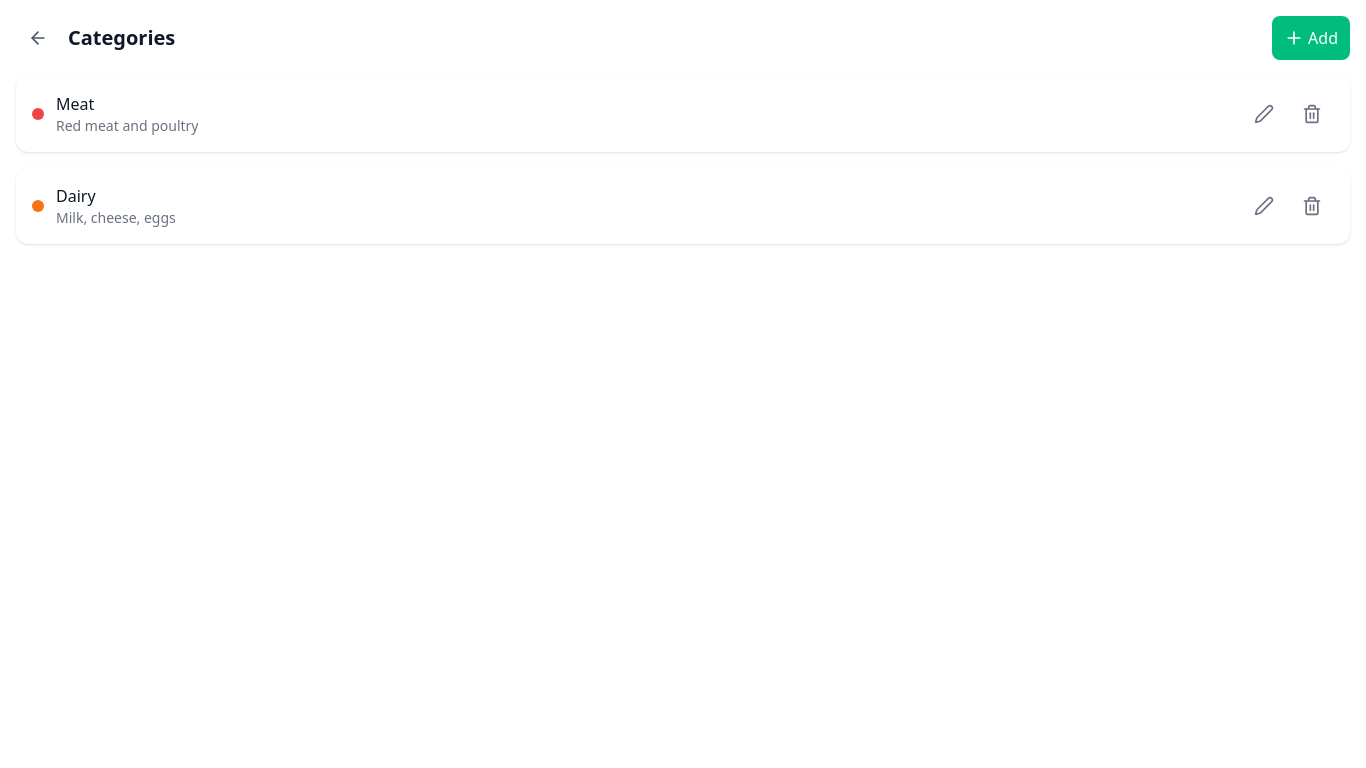
Test case: CategoriesPage › pins in-use category copy: Can't delete Meat — 1 item and 2 templates still use this category.
What coordinates should you click on to do the following:
click the button named "delete meat"
I would click on:
 (1312, 114)
Its box is [1290,92,1334,136].
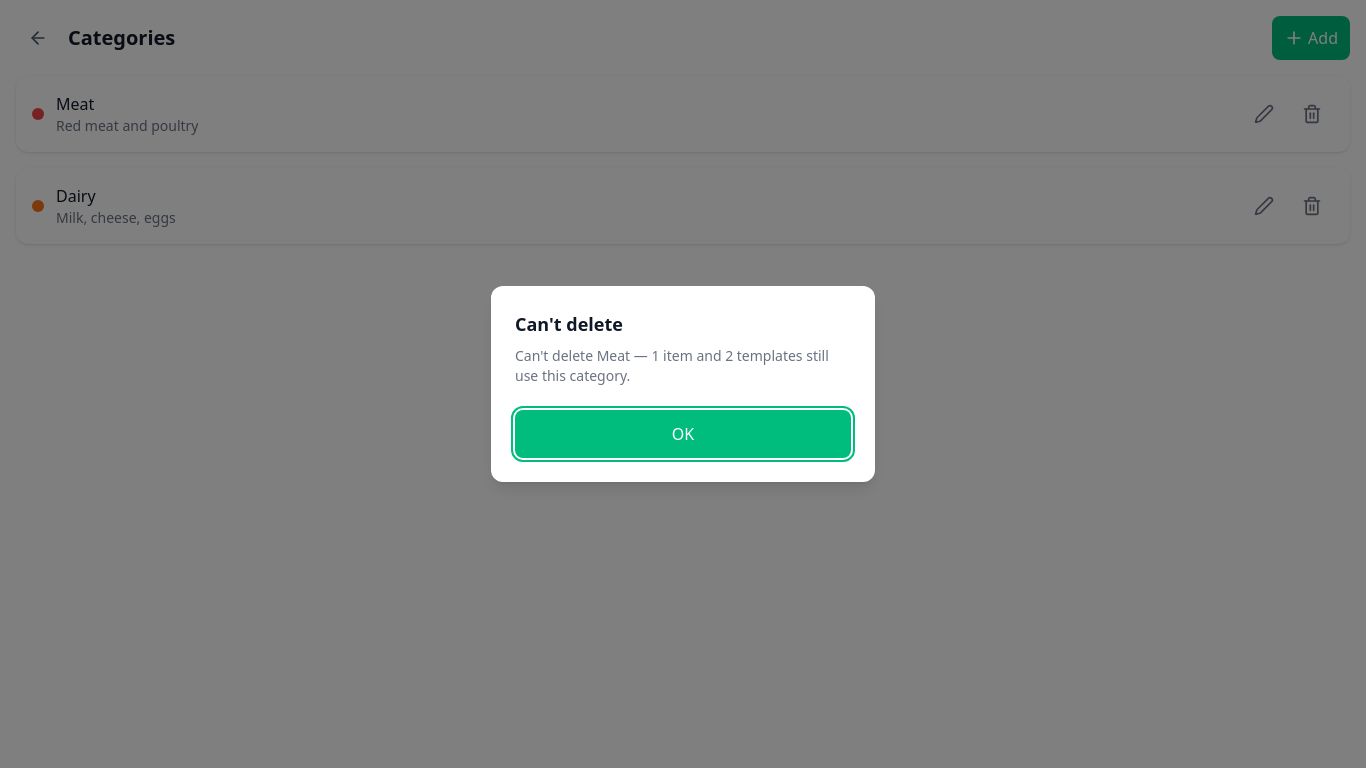
Now the text "Can't delete Meat — 1 item and 2 templates still use this category." is shown, box [515,346,851,386]
Now the button "OK" is shown, box [515,410,851,458]
